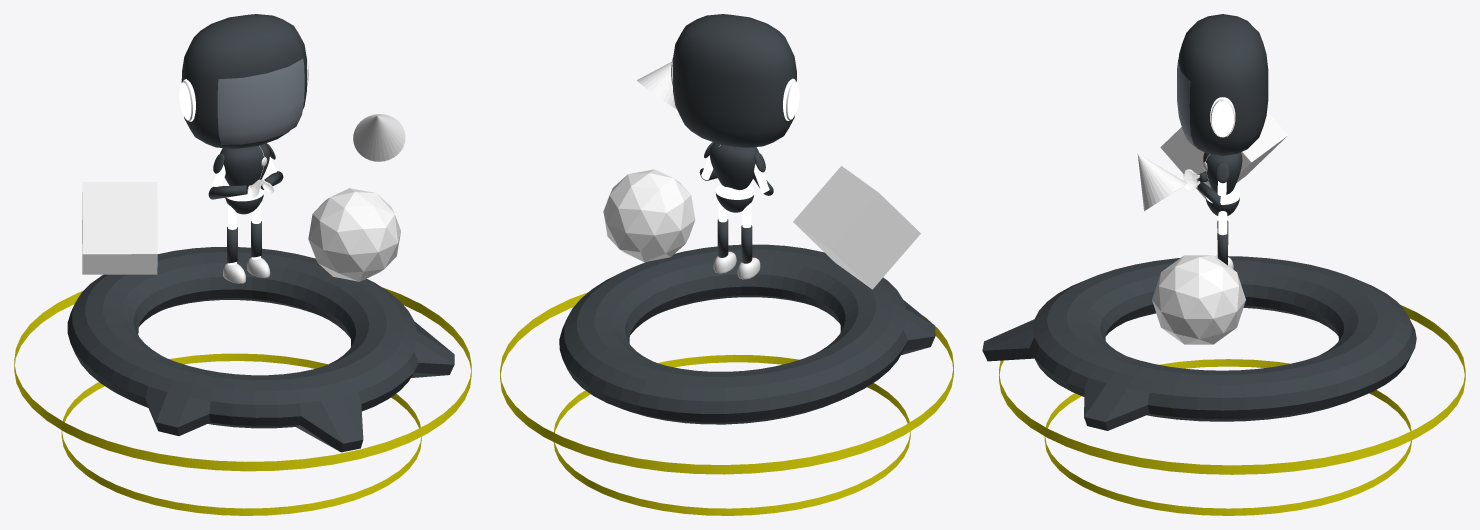
File: prizma1.glb
3 views of the same model, side by side, from view 1: azimuth 30°, elevation 25°; view 2: azimuth 150°, elevation 25°; view 3: azimuth 270°, elevation 25° (orthographic).
Parts seen in each view (by area): view 1: Torus, Cube_2, Cube.002, Icosphere, BezierCircle.001, Cube_1, BezierCircle.002, Cone, Cube.001_1, Boots, Legs_cover, Cylinder.006_1 (+1 smaller); view 2: Torus, Cube_2, Cube.002, Icosphere, BezierCircle.001, BezierCircle.002, Cube.001_1, Cone, Legs_cover, Boots, Circle.003_1.001; view 3: Torus, Cube_2, Icosphere, BezierCircle.001, BezierCircle.002, Cube.002, Cone, Cube.001_1, Circle.003_1, Cube_1.
Part boxes in pixels (x1,y1,x2,y2): Torus: (67,247,454,452); Cube_2: (181,14,307,148); Cube.002: (82,182,157,274); Icosphere: (308,188,400,281); BezierCircle.001: (14,287,471,471); Cube_1: (217,59,304,144); BezierCircle.002: (61,353,421,515); Cone: (353,114,405,161); Cube.001_1: (220,143,269,188); Boots: (223,257,270,283); Legs_cover: (227,221,261,263); Cylinder.006_1: (208,171,283,199); Torus: (559,244,935,424); Cube_2: (672,14,796,147); Cube.002: (793,166,920,289); Icosphere: (603,169,695,262); BezierCircle.001: (500,292,953,474); BezierCircle.002: (553,354,910,515); Cube.001_1: (709,142,759,190); Cone: (637,62,676,109); Legs_cover: (717,219,752,263); Boots: (713,251,760,279); Circle.003_1.001: (783,78,799,120); Torus: (982,256,1416,430); Cube_2: (1178,14,1268,155); Icosphere: (1152,255,1245,344); BezierCircle.001: (999,304,1465,474); BezierCircle.002: (1044,359,1411,515); Cube.002: (1160,111,1287,199); Cone: (1137,154,1187,211); Cube.001_1: (1203,152,1242,194); Circle.003_1: (1210,97,1235,137); Cube_1: (1177,59,1194,146).
Size of the model in its own units: 1.56 by 1.6 by 1.68.
Materials: 9 (1 with a texture image).
